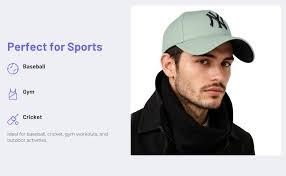cap: (159, 5, 260, 67)
